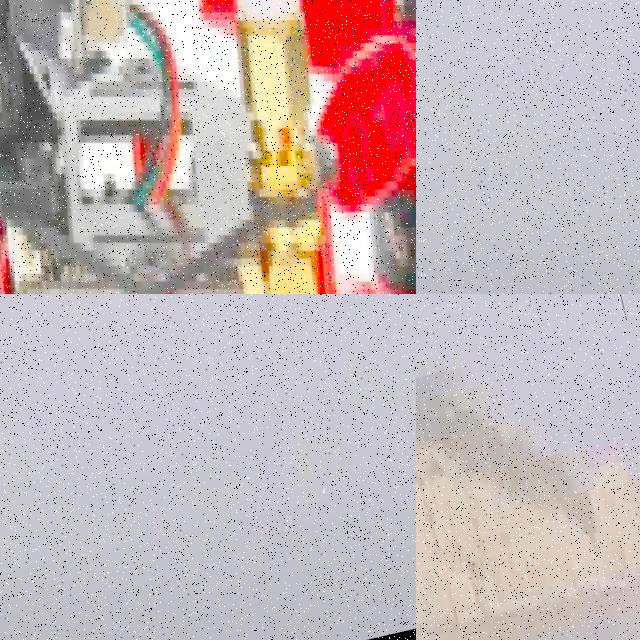drone: (0, 0, 416, 294)
